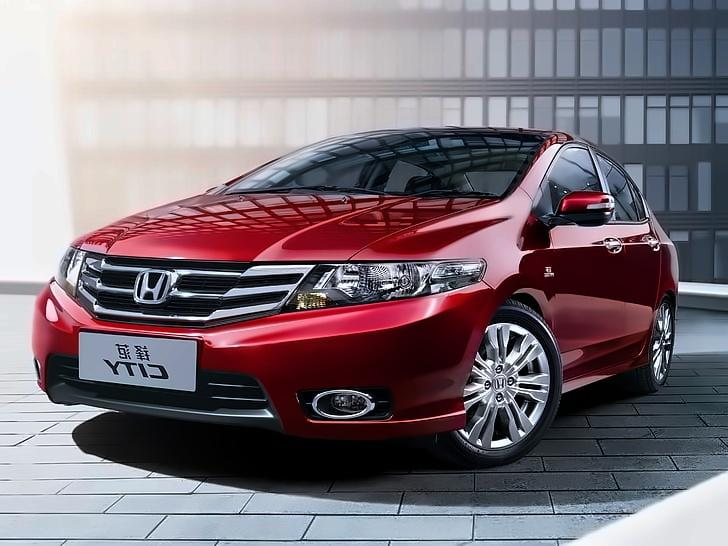Car hood: (70, 184, 496, 268)
Fender - -F-L-: (476, 184, 560, 360)
Front bumper: (24, 299, 484, 449)
Headlight - -L-: (272, 249, 490, 315)
Headlight - -R-: (42, 242, 102, 310)
Passenger-s door - -F-L-: (557, 144, 622, 384)
Passenger-s door - -R-L-: (616, 154, 669, 367)
Side bumper - -L-: (552, 349, 657, 401)
Side mirror - -L-: (552, 179, 632, 240)
